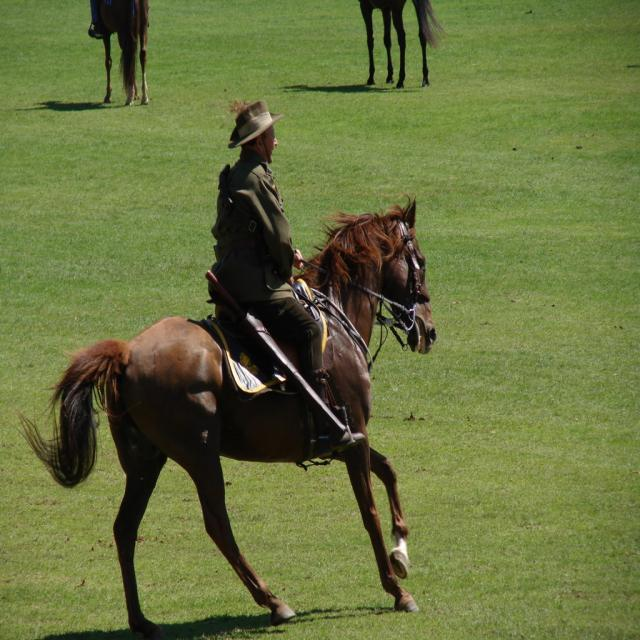Horse: (12, 192, 437, 639), (358, 0, 450, 88), (88, 0, 150, 106)
